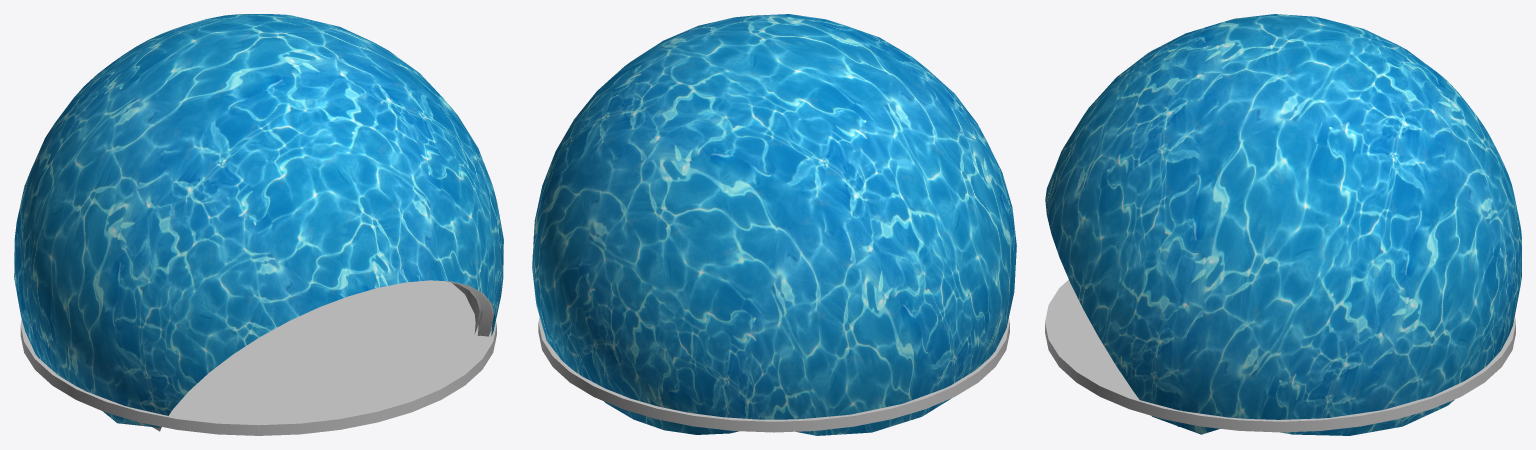
File: M_anquanqu01.FBX
3 renders of one model, left to right at view 1: azimuth 30°, elevation 25°; view 2: azimuth 150°, elevation 25°; view 3: azimuth 270°, elevation 25°, orthographic.
Visible parts, largest first — view 1: M_anquanqu01_07, M_anquanqu01_01, M_anquanqu01_02; view 2: M_anquanqu01_07, M_anquanqu01_01; view 3: M_anquanqu01_07, M_anquanqu01_01.
Boxes of the visible parts, x1,y1,x2,y2 form: M_anquanqu01_07: (14,14,503,427); M_anquanqu01_01: (20,280,496,435); M_anquanqu01_02: (447,281,494,336); M_anquanqu01_07: (532,14,1016,435); M_anquanqu01_01: (538,317,1009,432); M_anquanqu01_07: (1045,14,1521,435); M_anquanqu01_01: (1045,279,1515,432).
Size of the model in its own units: 20.63 by 14.85 by 20.25.
